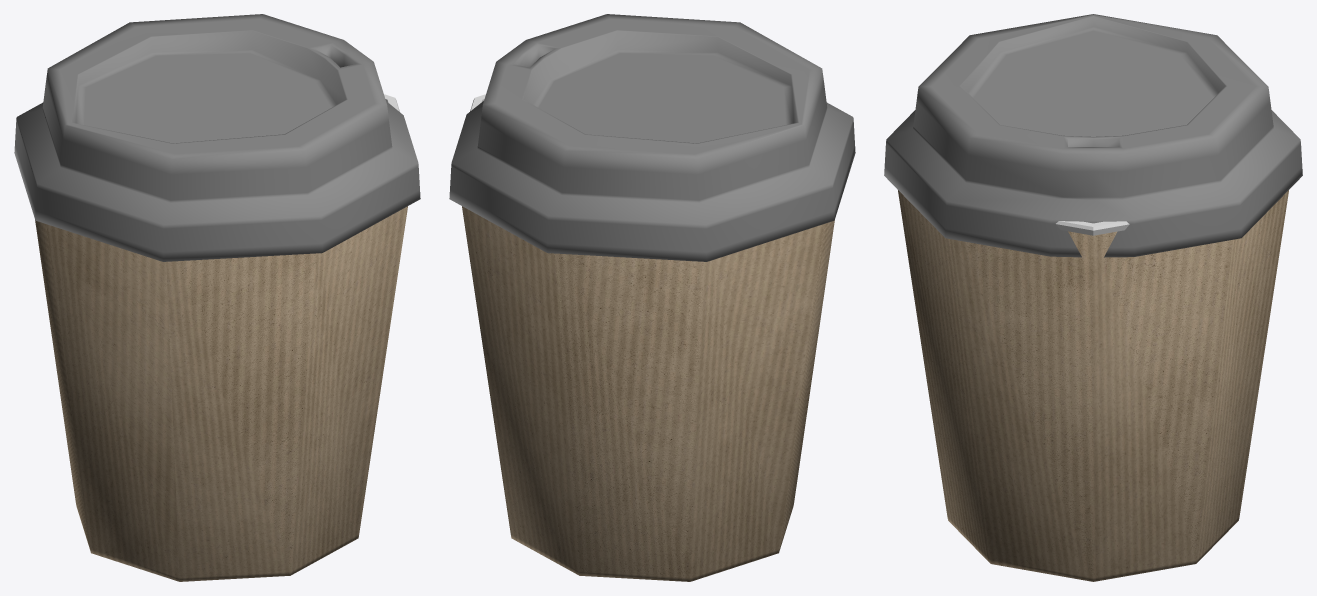
Rendered from coffeecup.glb.
3 renders of one model, left to right at view 1: azimuth 30°, elevation 25°; view 2: azimuth 150°, elevation 25°; view 3: azimuth 270°, elevation 25°, orthographic.
Parts seen in each view (by area): view 1: Cup, Lid; view 2: Cup, Lid; view 3: Cup, Lid.
Boxes of the visible parts, x1,y1,x2,y2 form: Cup: [35, 94, 407, 581]; Lid: [14, 14, 420, 261]; Cup: [462, 94, 834, 581]; Lid: [449, 14, 855, 261]; Cup: [898, 190, 1288, 581]; Lid: [884, 14, 1302, 257].
Size of the model in its own units: 0.3304 by 0.3825 by 0.3332.
Materials: 3 (1 with a texture image).
